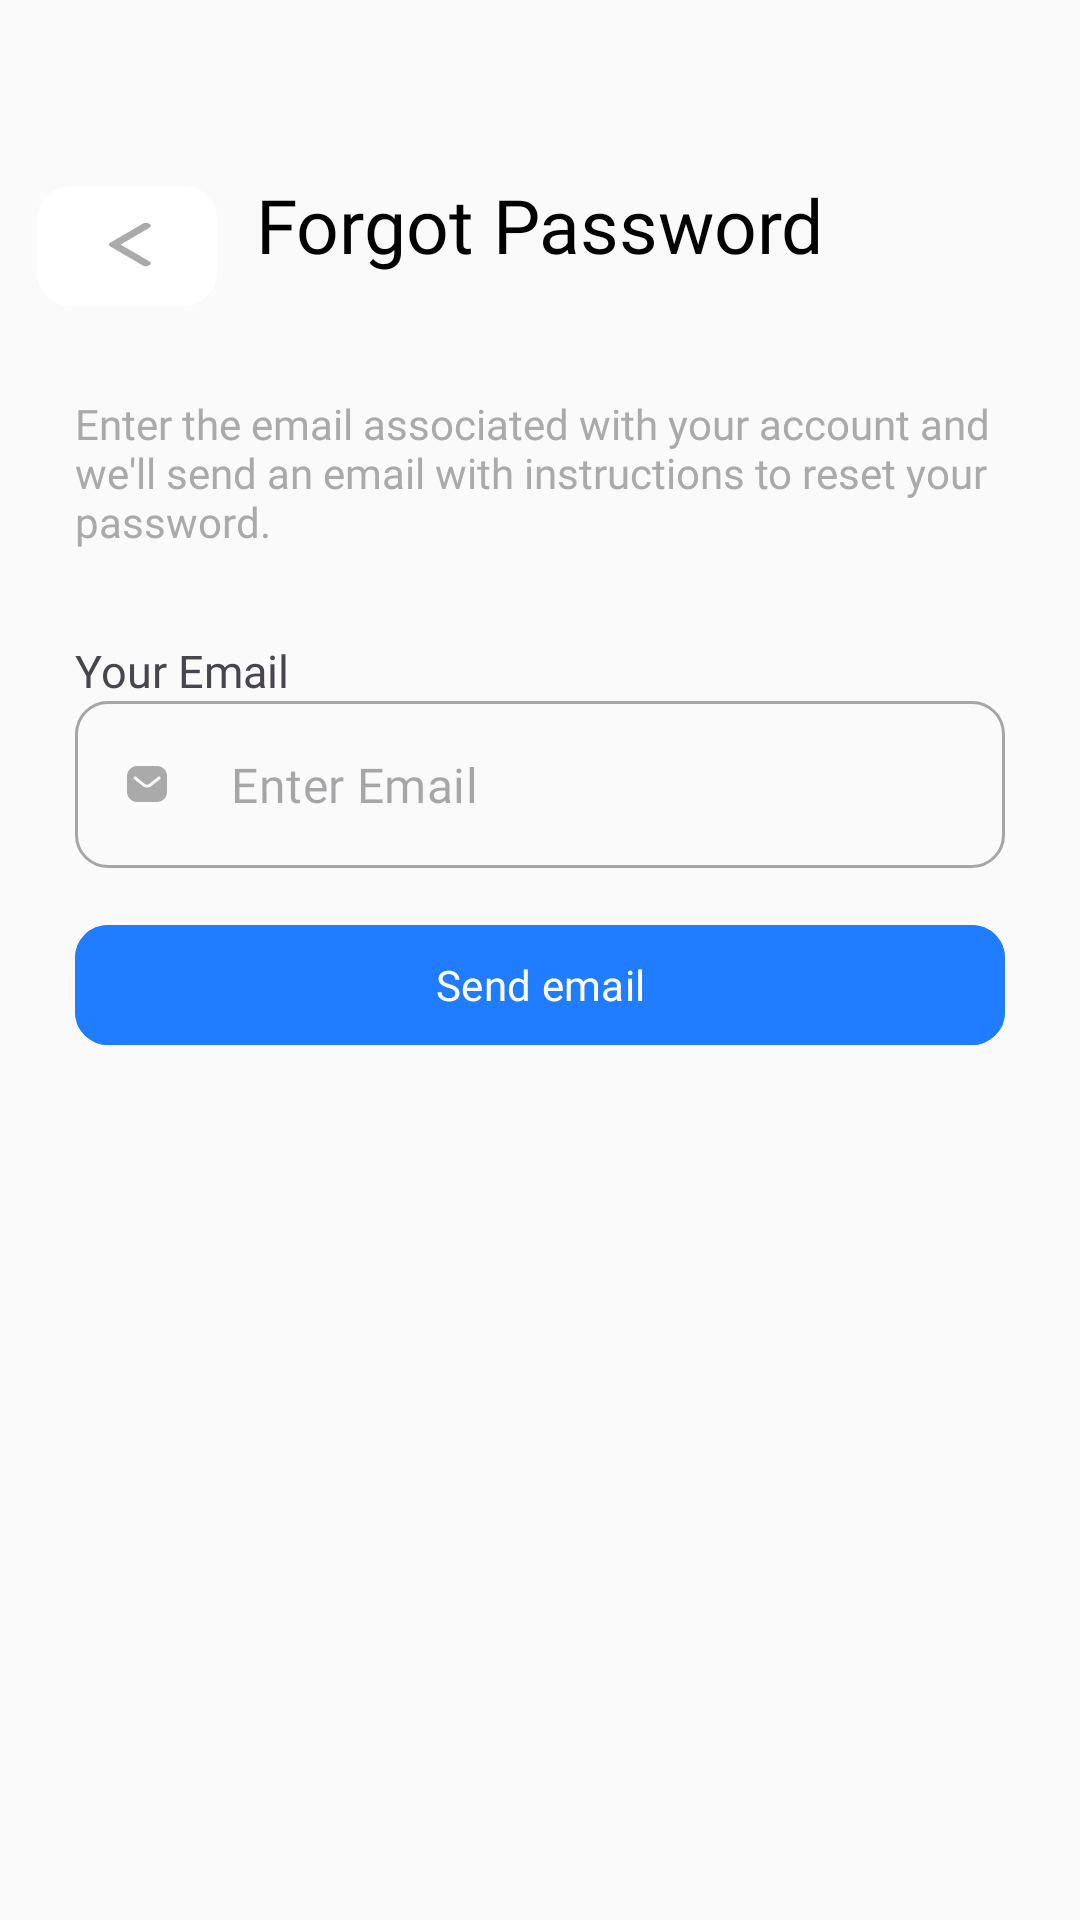

Icon bounding boxes for this 1080w x 1920h phone screenshot, format [x1, y1, x2, y2]:
back: [109, 223, 151, 266]
